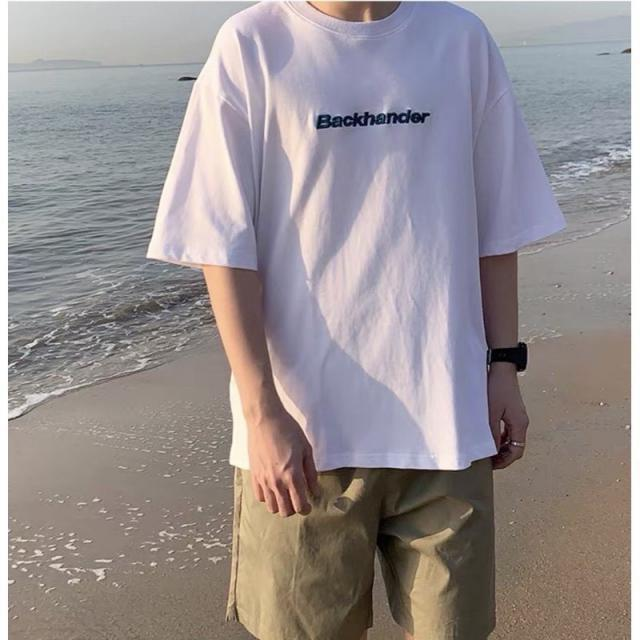Shirt: (143, 0, 572, 470)
